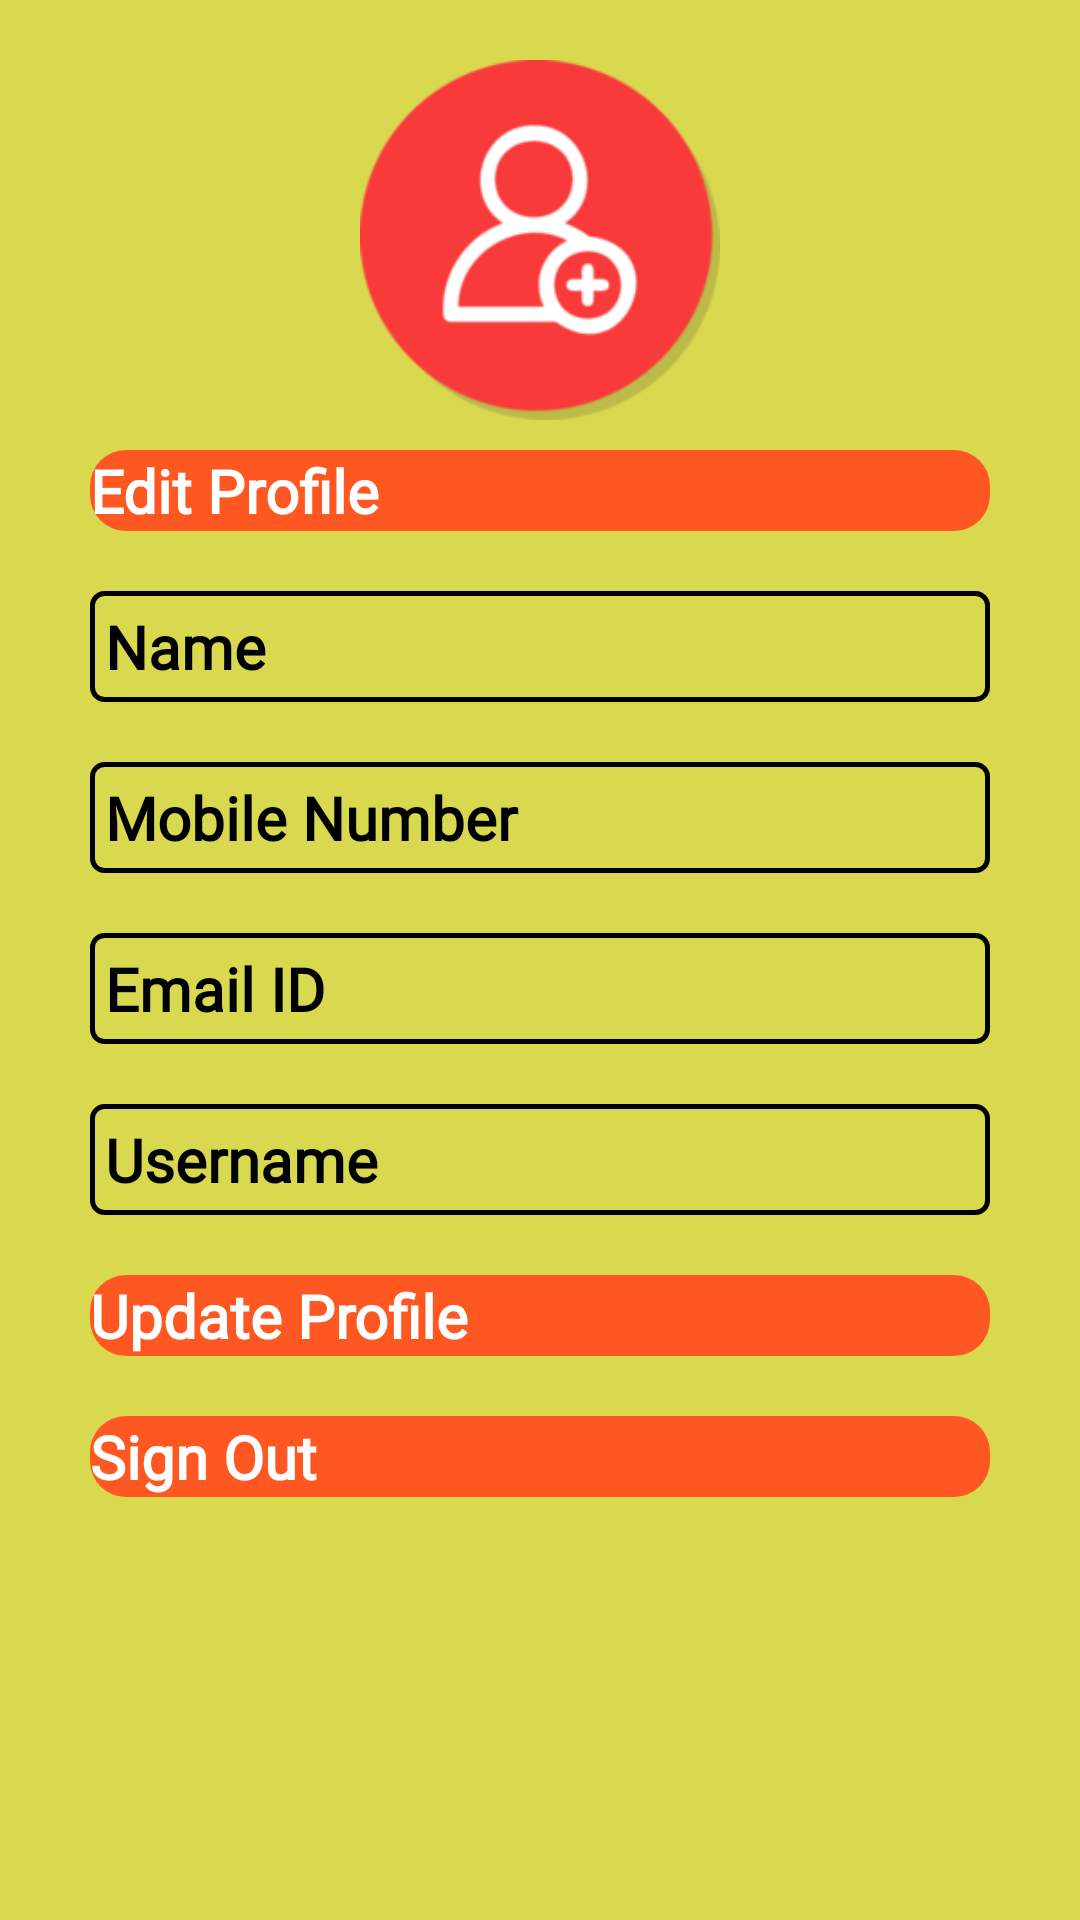

Named icons in this screenshot (1080 x 1920) and their bounding boxes, (x1, y1, x2, y2):
add profile: (360, 60, 720, 420)
